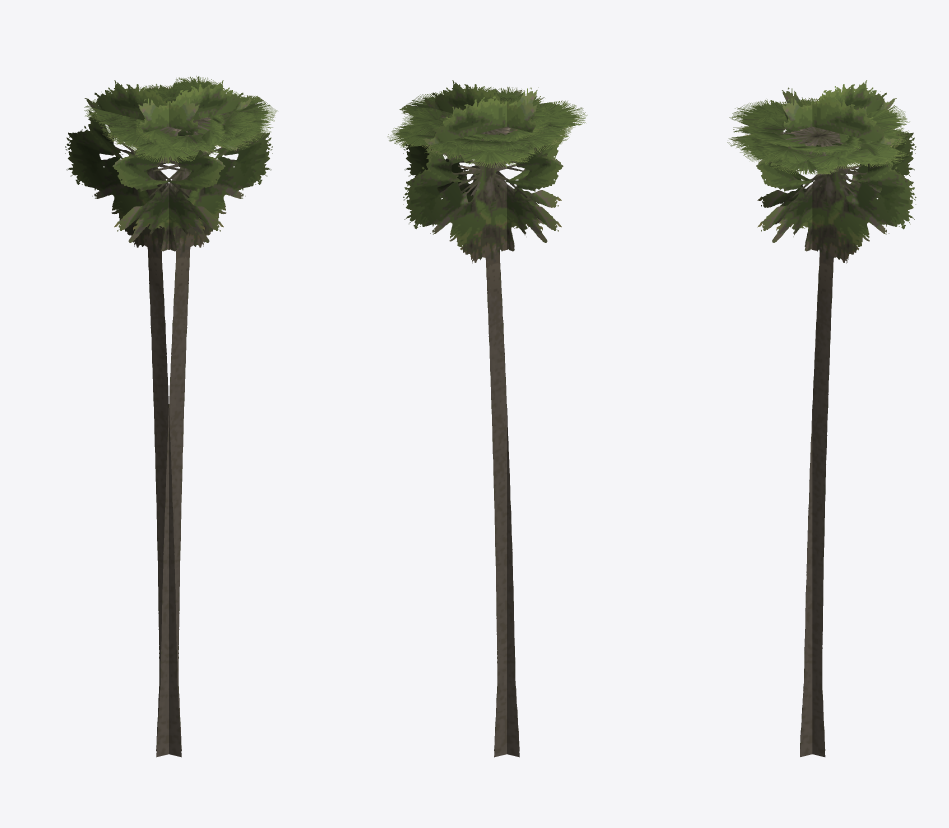
The model's file is tree_palm_fan_lod1.glb.
3 views of the same model, side by side, from view 1: azimuth 30°, elevation 25°; view 2: azimuth 150°, elevation 25°; view 3: azimuth 270°, elevation 25° (orthographic).
Parts seen in each view (by area): view 1: tree_palm_fan_lod1; view 2: tree_palm_fan_lod1; view 3: tree_palm_fan_lod1.
Part boxes in pixels (x1=…): tree_palm_fan_lod1: x1=65, y1=76, x2=277, y2=757; tree_palm_fan_lod1: x1=387, y1=80, x2=587, y2=757; tree_palm_fan_lod1: x1=727, y1=80, x2=916, y2=756.
Size of the model in its own units: 7.46 by 19.8 by 6.46.
Materials: 1 (1 with a texture image).
